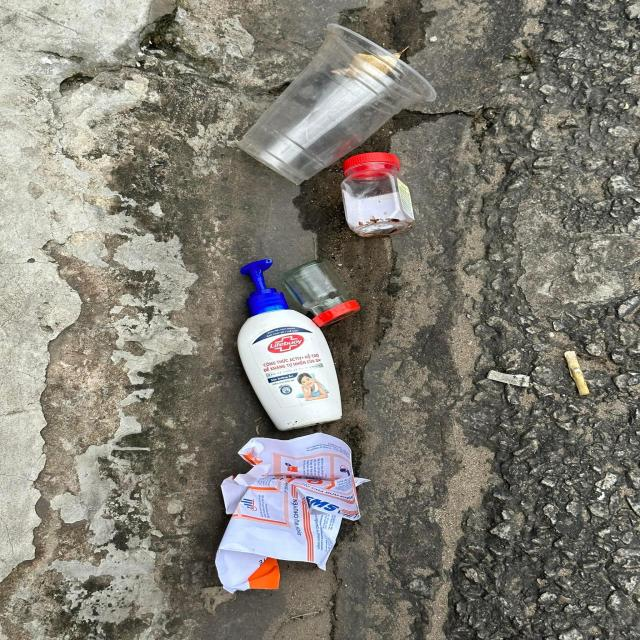bottle: (238, 259, 342, 431)
paper: (216, 432, 370, 594)
plastic glass: (237, 23, 436, 184)
plastic holder: (341, 152, 417, 237), (283, 260, 359, 326)
